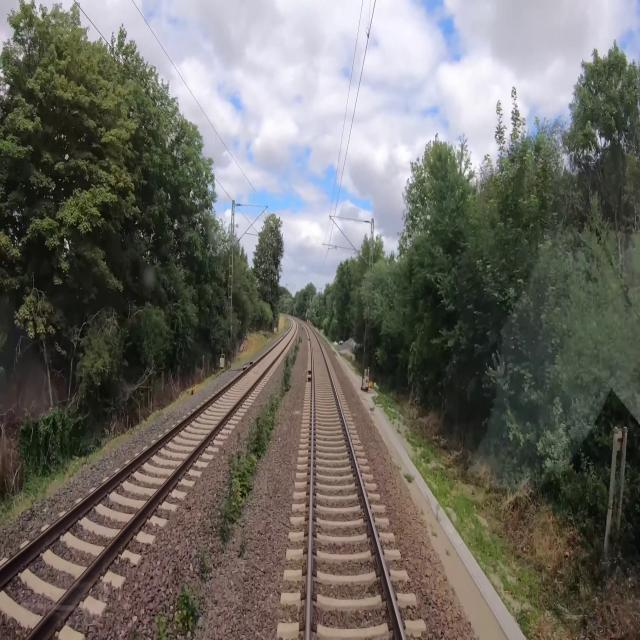Plant: (188, 334, 304, 591), (148, 570, 207, 639), (238, 538, 248, 559)
